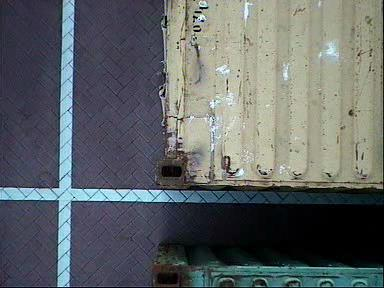groundmarker_2: (166, 1, 240, 78)
